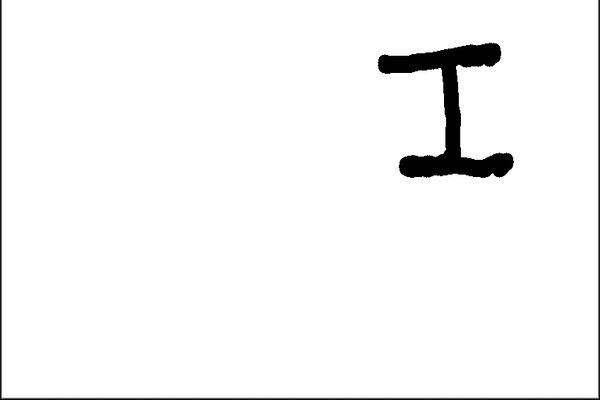i: (376, 40, 522, 194)
